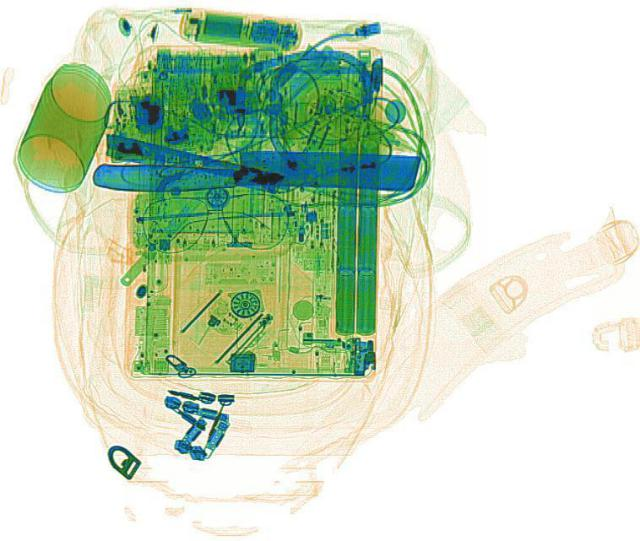Knife: (92, 148, 420, 189)
